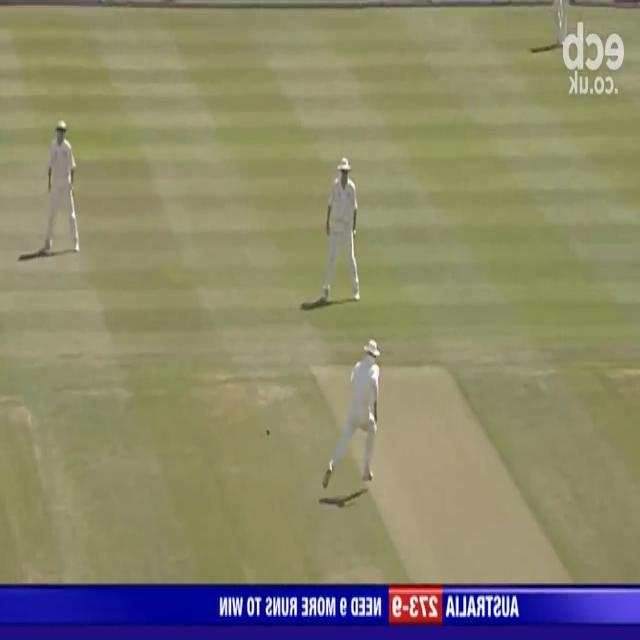ball: (262, 422, 274, 442)
